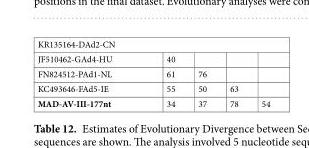table: (36, 37, 269, 109)
table column: (36, 37, 138, 109), (138, 37, 185, 109), (185, 37, 217, 109), (217, 37, 249, 109), (249, 37, 269, 109)
table projected row header: (36, 37, 269, 51)
table row: (36, 65, 269, 80), (36, 80, 269, 95), (36, 37, 269, 51), (36, 51, 269, 65), (36, 95, 269, 109)
